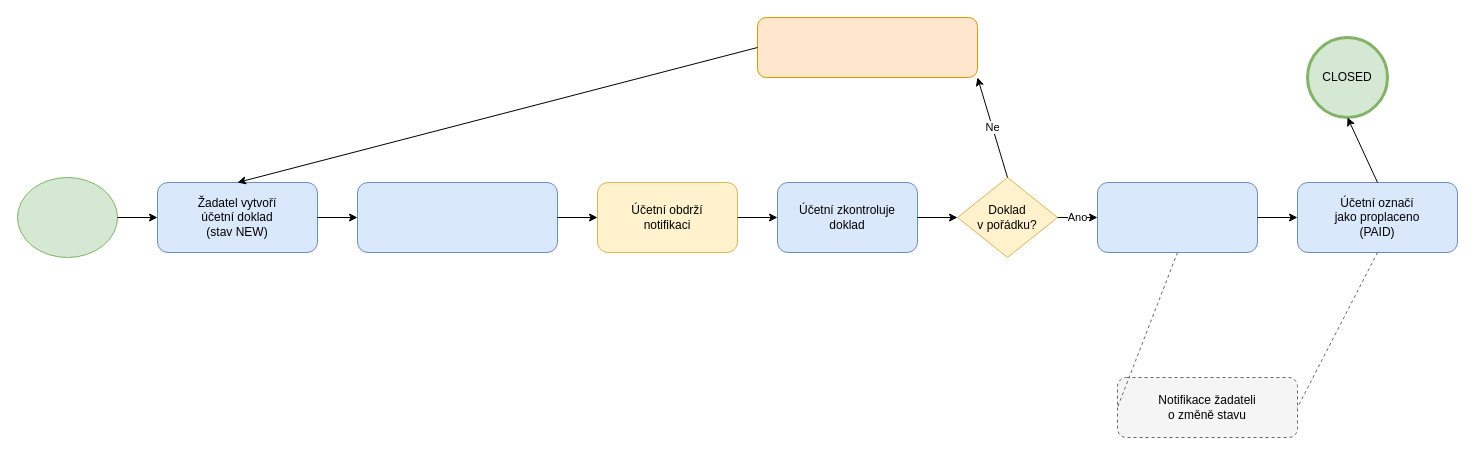
This 1475x455 diagram has some shape labels left out. The shapes that lost their labels are listed below. From the top down, each one's box as (x1, y1, x2, y2) in pixels, then its label:
(756, 16, 978, 78): Vrátit k doplnění (RETURNED_FOR_COMPLETION)
(16, 176, 118, 258): Schválená žádost nebo přijatý doklad
(356, 182, 558, 252): Žadatel odešle ke zpracování (SUBMITTED_TO_ACCOUNTING)
(1096, 182, 1258, 252): Účetní zaúčtuje (POSTED)
